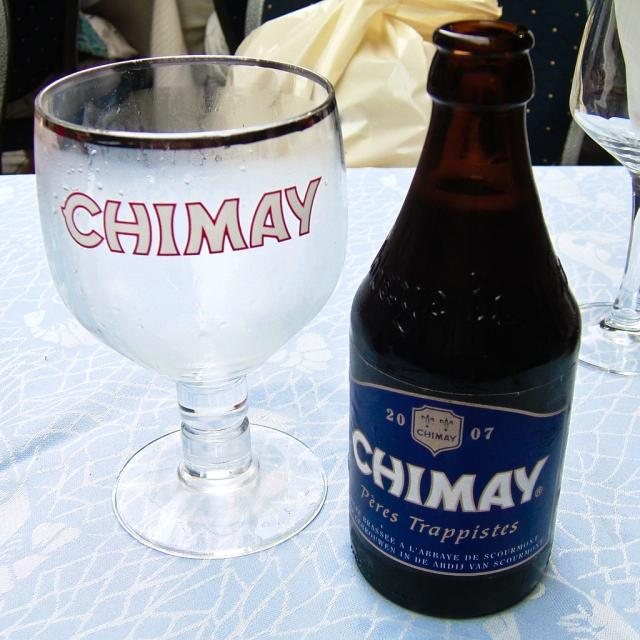chimay: (347, 381, 575, 578), (56, 173, 332, 261)
